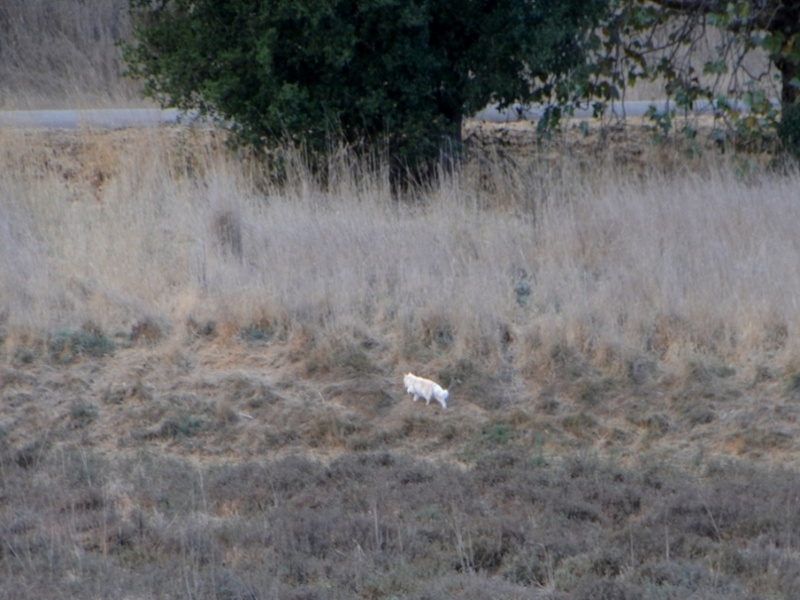cat: (401, 370, 450, 408)
